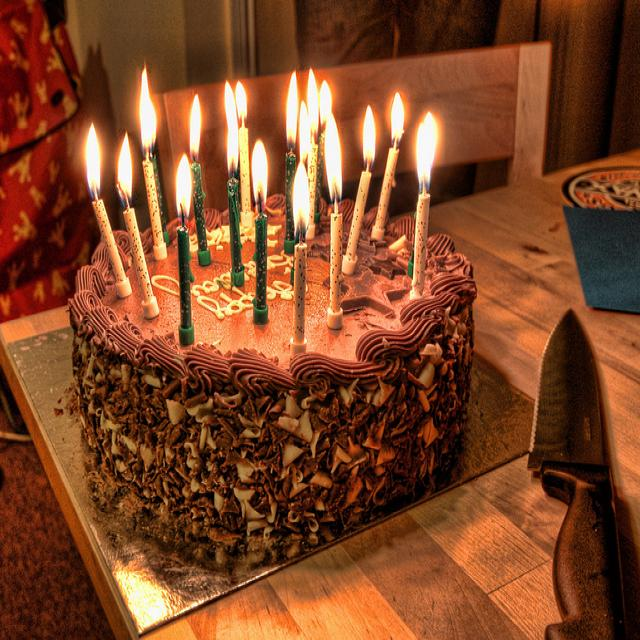chair: (165, 43, 542, 212)
dining table: (0, 150, 640, 633)
